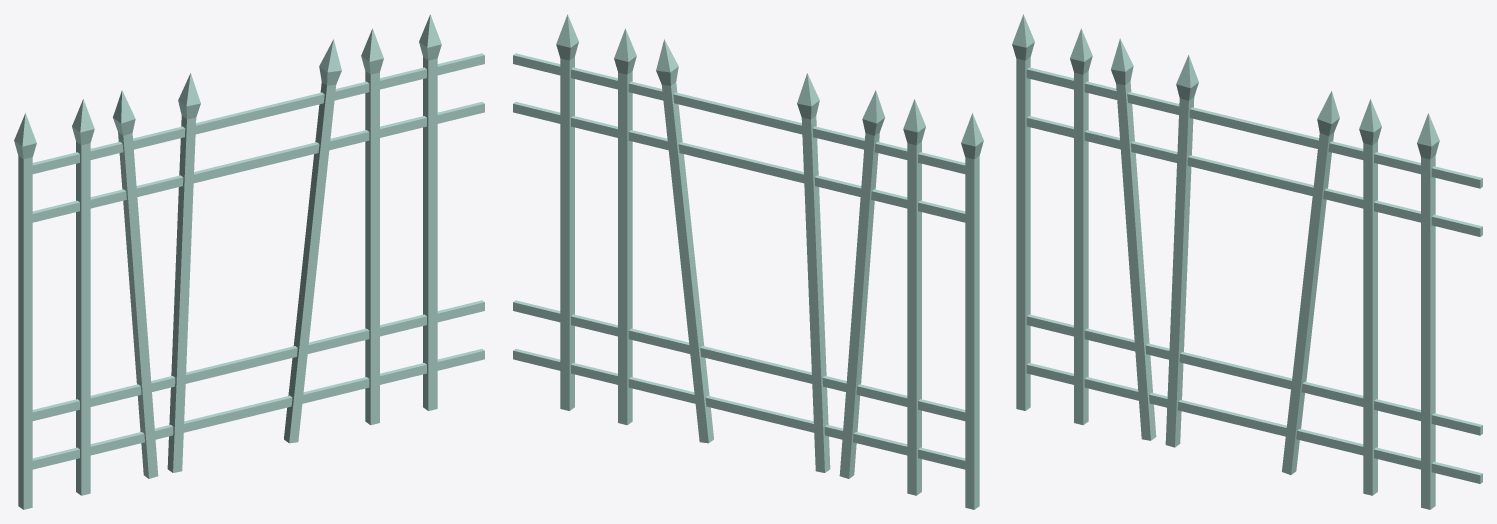
File: fenceIronOpening.glb
3 renders of one model, left to right at view 1: azimuth 30°, elevation 25°; view 2: azimuth 150°, elevation 25°; view 3: azimuth 330°, elevation 25°, orthographic.
Visible parts, largest first — view 1: bar (×11); view 2: bar (×11); view 3: bar (×11).
Part boxes in pixels (bbox=[...]): bar (×11): bbox=[14, 14, 484, 509]; bar (×11): bbox=[513, 14, 983, 509]; bar (×11): bbox=[1012, 14, 1482, 509].
Size of the model in its own units: 1.01 by 0.814 by 0.0314.
